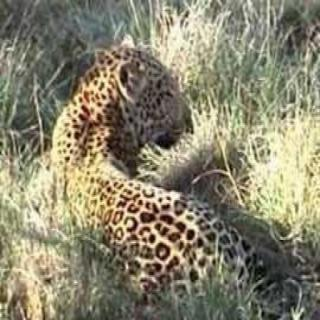Leopard: (25, 48, 288, 318)
